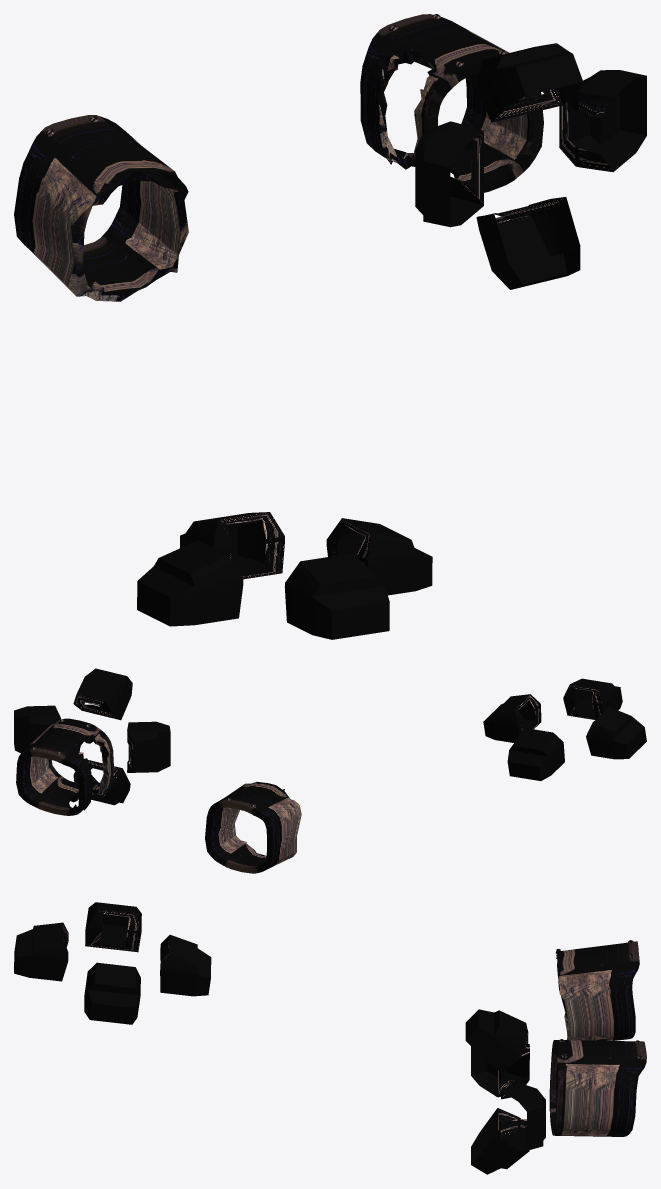
Rendered from DreadNoughtDestroyedMaterialsLegs.fbx.
The picture shows the model from 3 angles, top to bottom: view 1: azimuth 30°, elevation 25°; view 2: azimuth 150°, elevation 25°; view 3: azimuth 270°, elevation 25°; orthographic projection. The views are drawn at different scales.
Parts seen in each view (by area): view 1: BlueMetalLegs; view 2: BlueMetalLegs; view 3: BlueMetalLegs.
Boxes of the visible parts, x1,y1,x2,y2 form: BlueMetalLegs: (14,14,646,639); BlueMetalLegs: (14,668,646,873); BlueMetalLegs: (14,902,646,1174).
Size of the model in its own units: 531 by 141 by 552.
Materials: 1 (1 with a texture image).
